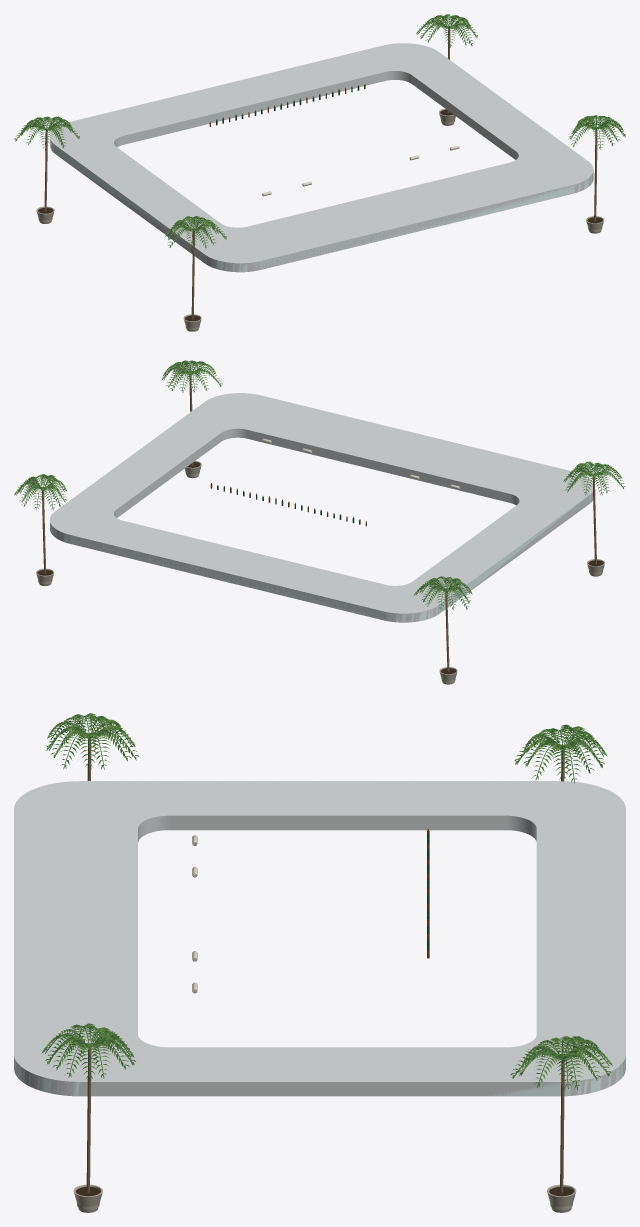
File: m-editorial-v61.glb
3 views of the same model, one above another, from view 1: azimuth 30°, elevation 25°; view 2: azimuth 150°, elevation 25°; view 3: azimuth 270°, elevation 25° (orthographic). The views are drawn at different scales.
Visible parts, largest first — view 1: M61_Water, M61_Details, M61_Overflow; view 2: M61_Water, M61_Details, M61_Overflow; view 3: M61_Water, M61_Details, M61_Overflow.
Boxes of the visible parts, bbox=[...] form: M61_Water: bbox=[50, 43, 593, 272]; M61_Details: bbox=[14, 14, 625, 331]; M61_Overflow: bbox=[50, 141, 593, 271]; M61_Water: bbox=[50, 393, 593, 622]; M61_Details: bbox=[14, 360, 625, 684]; M61_Overflow: bbox=[50, 494, 591, 622]; M61_Water: bbox=[14, 781, 625, 1096]; M61_Details: bbox=[41, 713, 612, 1212]; M61_Overflow: bbox=[15, 781, 625, 1095].
Bounding box in the file's own units: 34.11 × 7.72 × 24.57.
